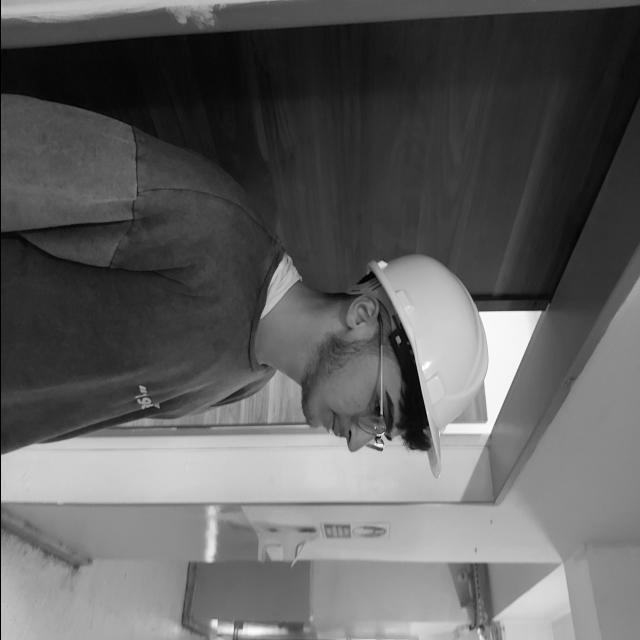construction helmet: (350, 253, 486, 477)
